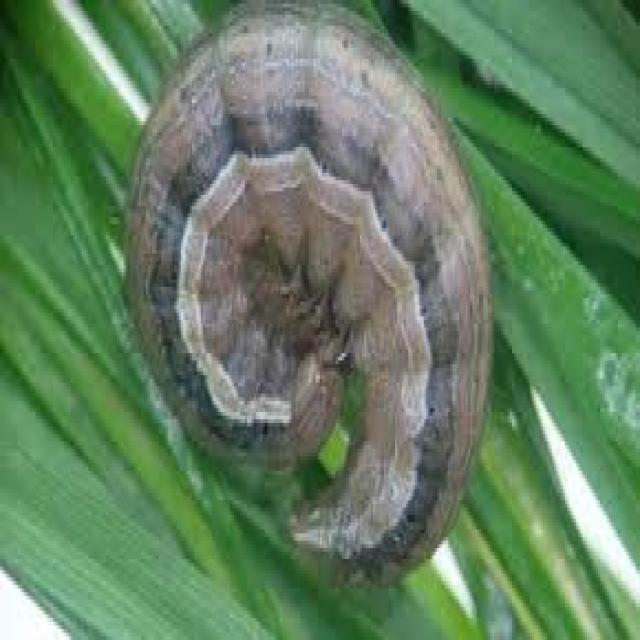Army Worm: (117, 0, 498, 598)
